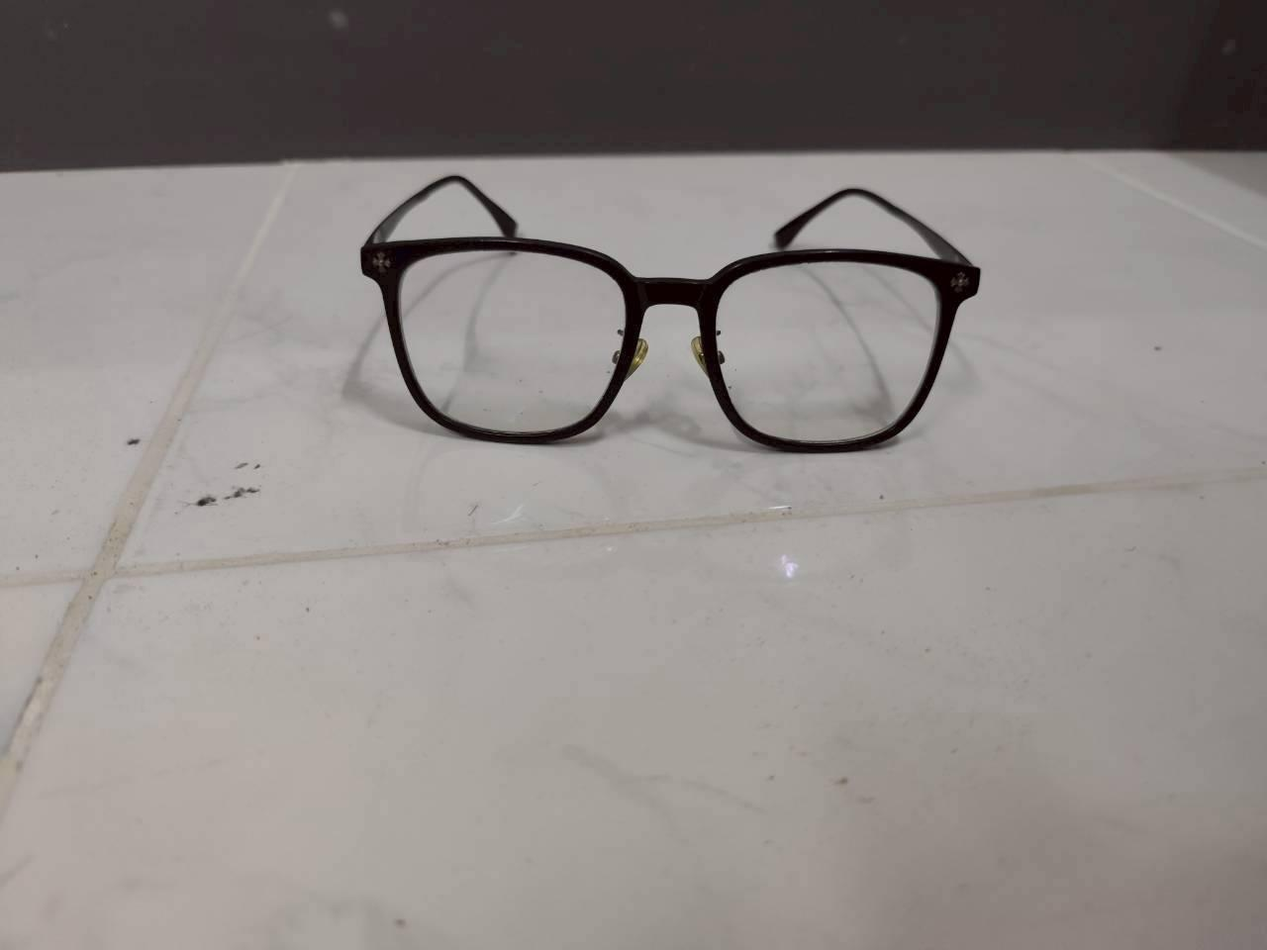glasses: (350, 168, 996, 479)
